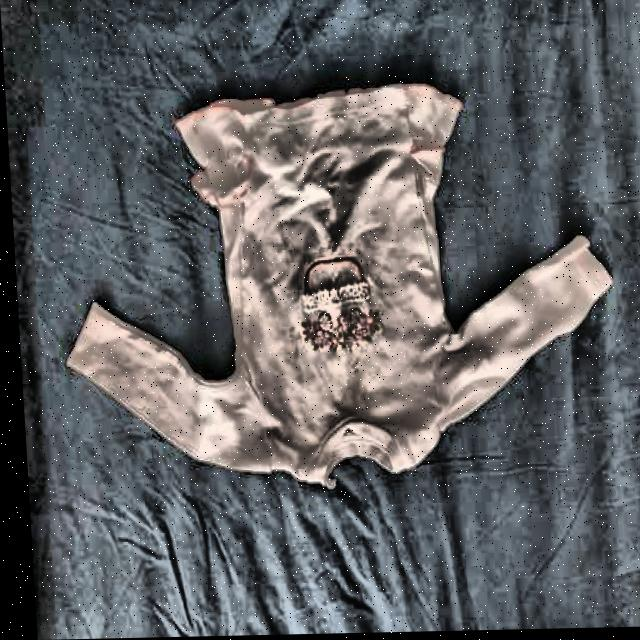clothes: (53, 75, 624, 495)
